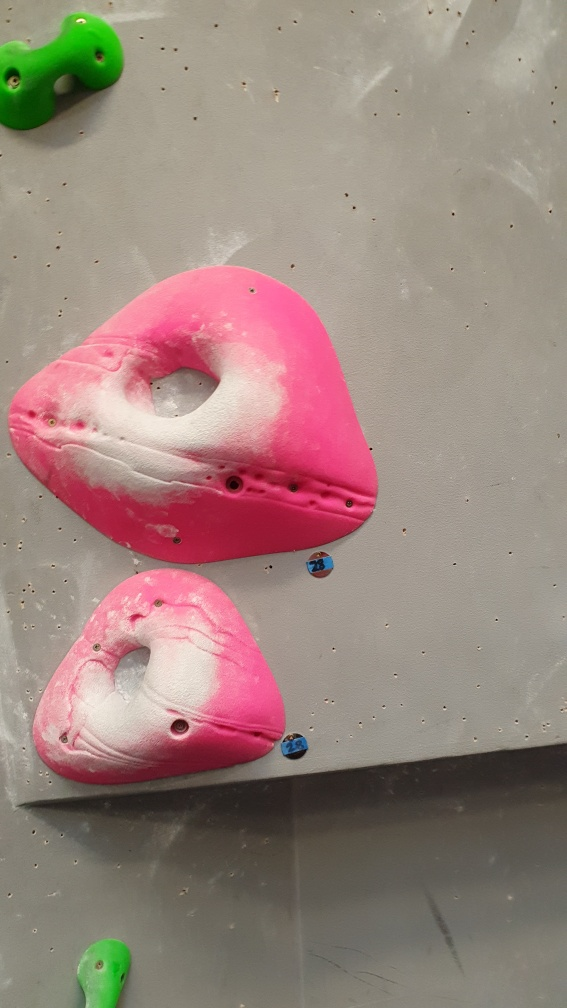Hand Start: (278, 726, 313, 765), (302, 550, 337, 581)
Pocket: (5, 259, 384, 566), (30, 568, 290, 791)
